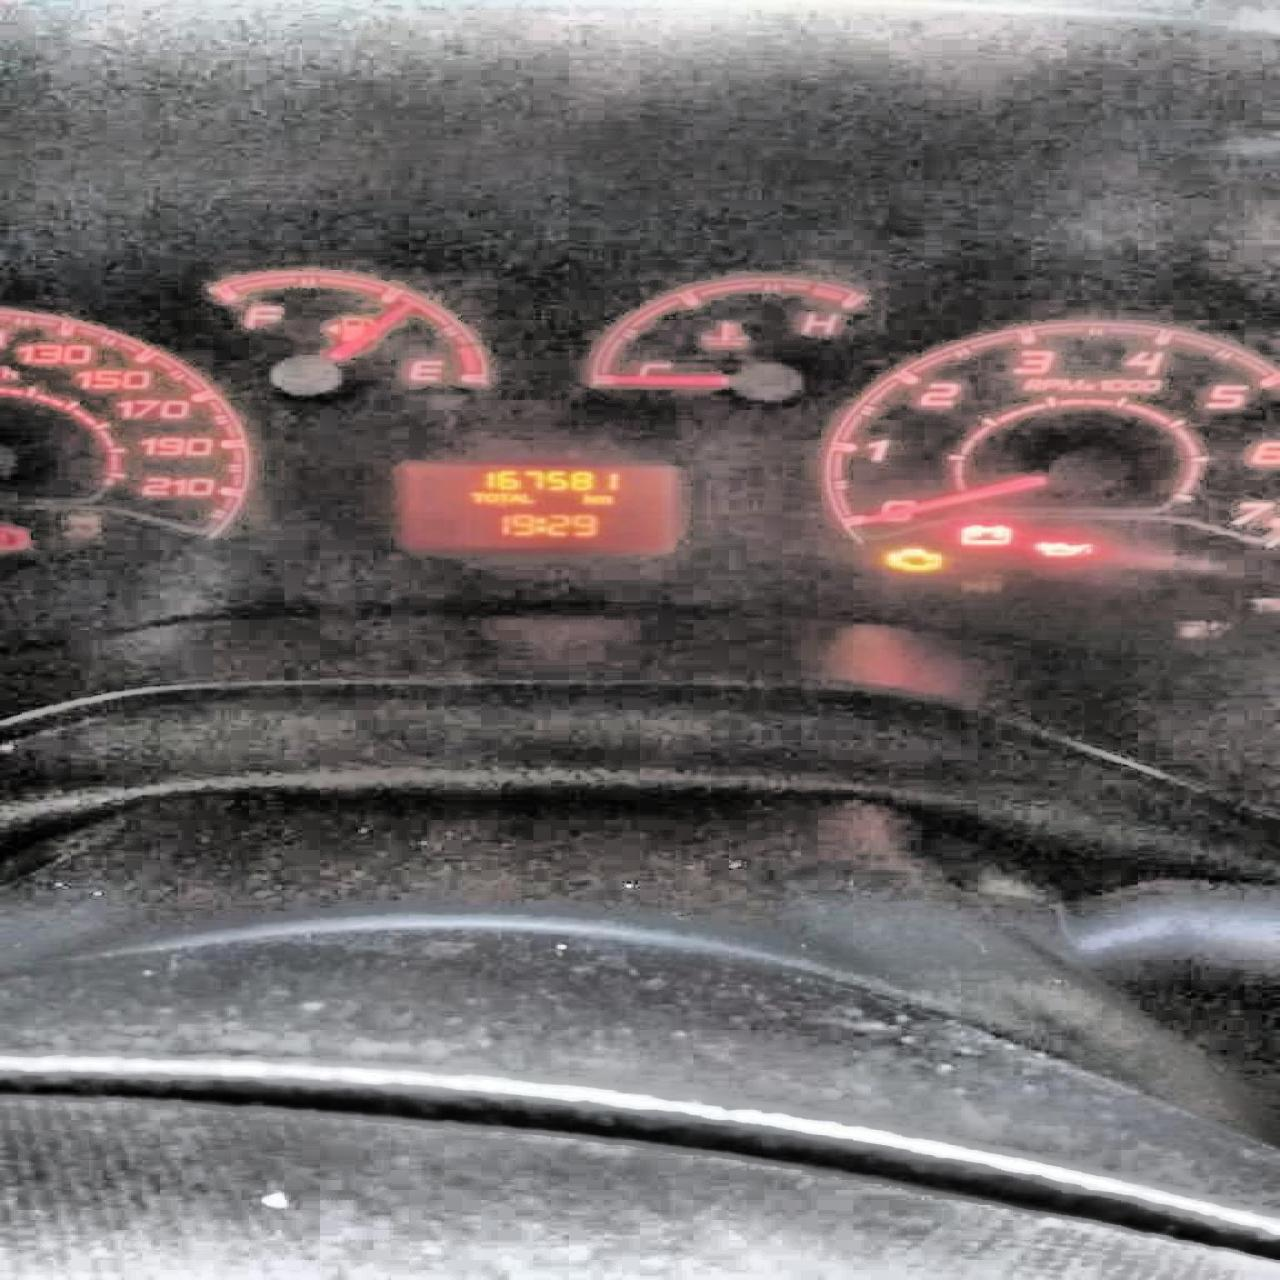1: (600, 470, 620, 490), (496, 512, 509, 536), (479, 469, 493, 488)
2: (544, 512, 568, 537)
5: (543, 469, 567, 490)
6: (493, 469, 519, 489)
7: (522, 468, 542, 490)
8: (568, 469, 593, 491)
9: (568, 512, 595, 537), (511, 512, 533, 537)
X: (591, 493, 611, 504), (533, 517, 545, 532), (482, 491, 496, 503), (506, 491, 520, 503), (519, 492, 533, 504), (469, 491, 482, 503), (580, 491, 591, 504), (496, 491, 506, 503)
odometer: (389, 459, 685, 554)
